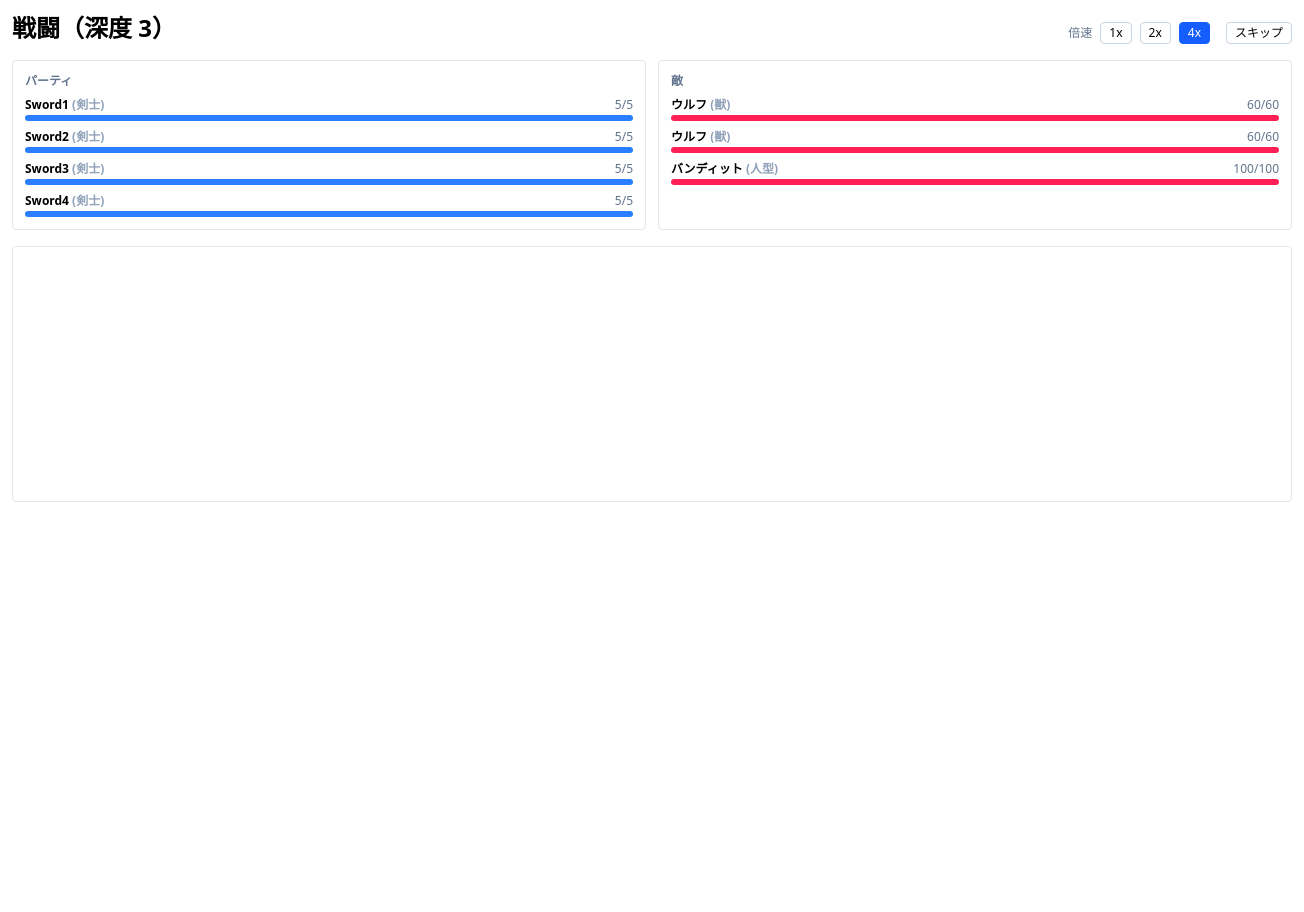
Test case: BattleScreen の M3-G-7：勝利後の次の深度へ出撃 › 敗北時は「次の深度」ボタンが出ず、「ホームへ戻る」のみ
This screenshot has width=1304, height=912.
Click the button "スキップ" at [1259, 33], box [1226,22,1292,44]
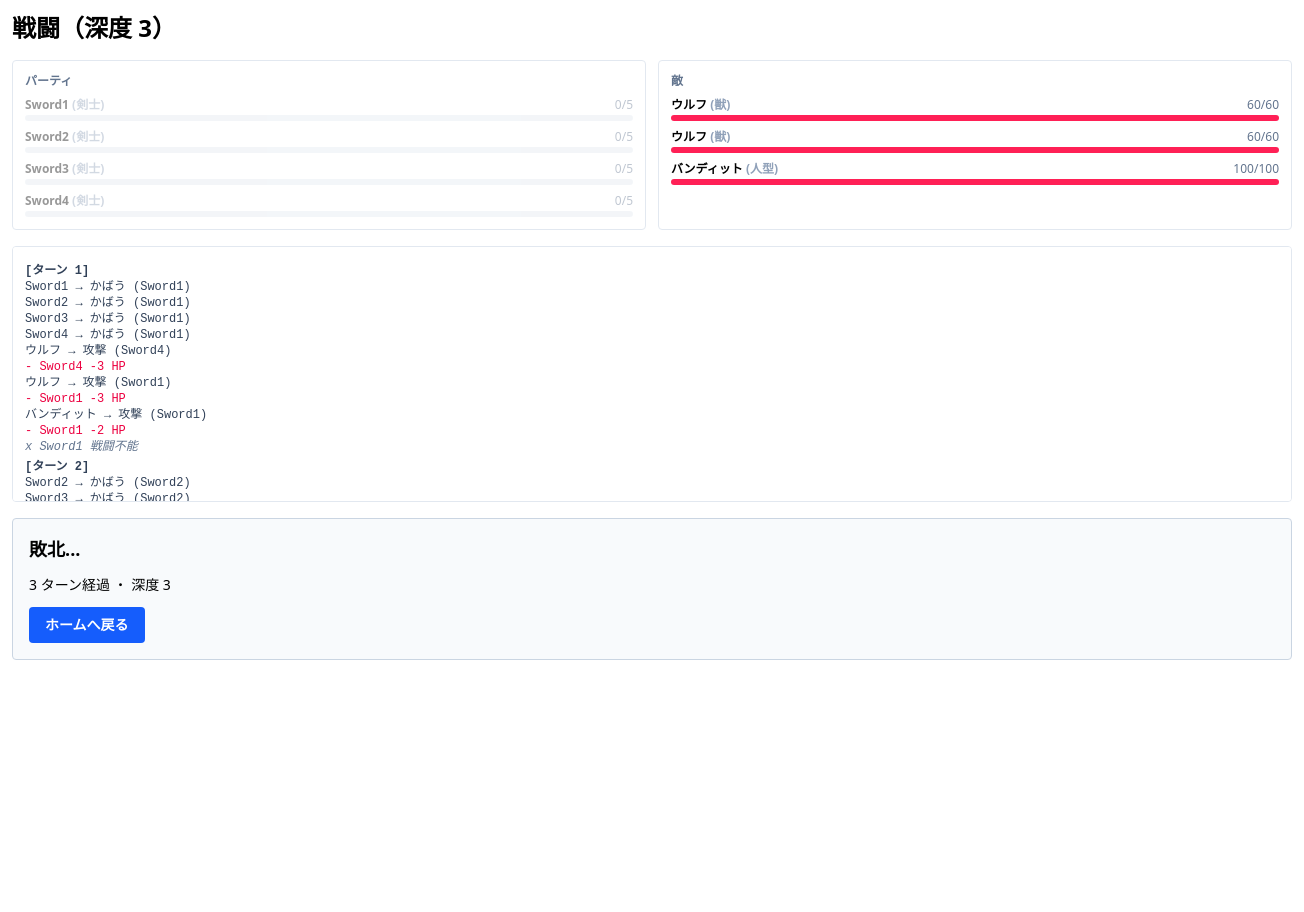
Now the button "ホームへ戻る" is shown, box [29,607,145,643]
